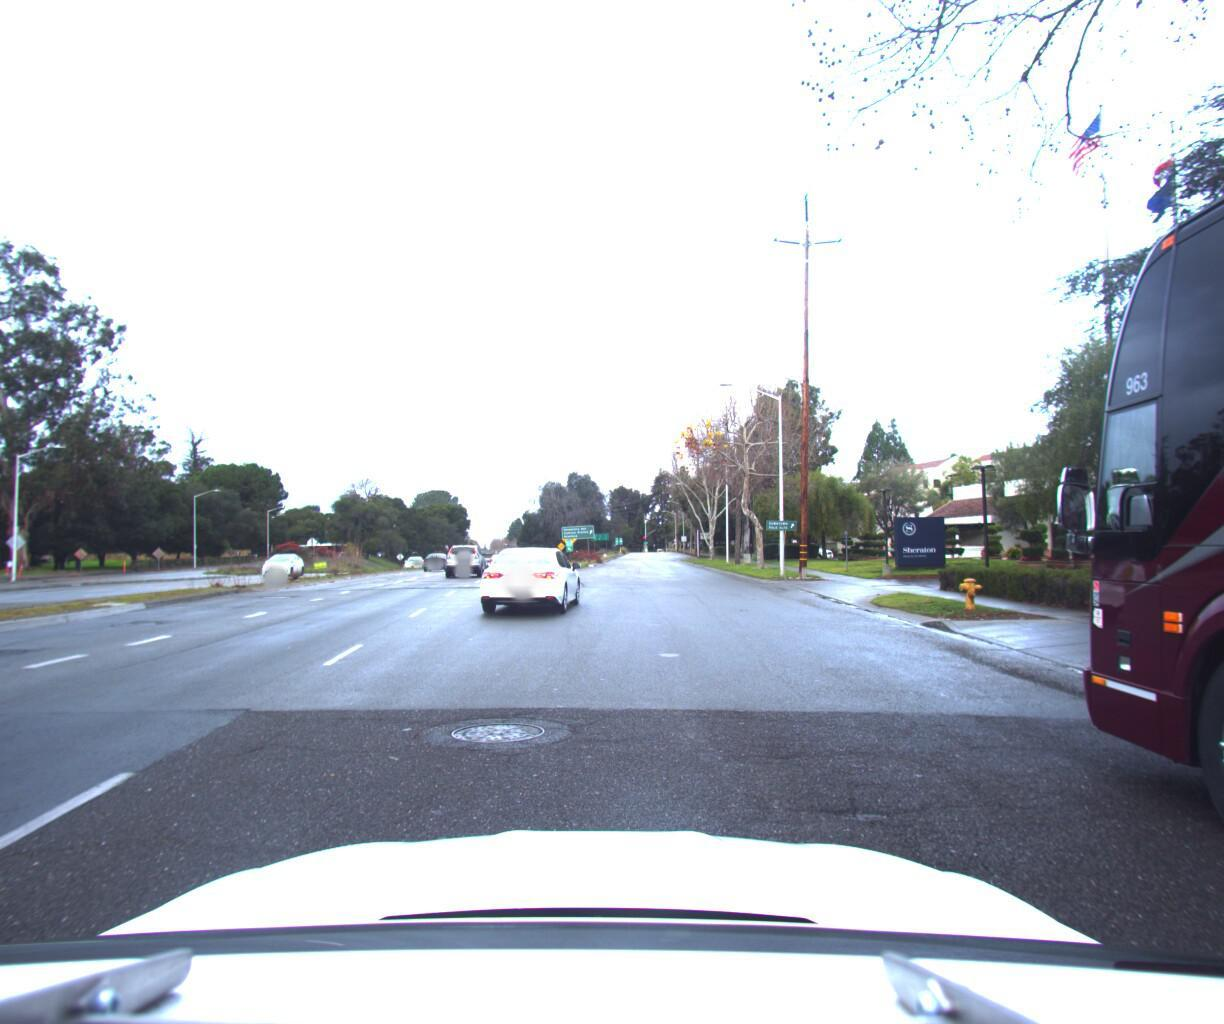car: (475, 542, 586, 614), (445, 542, 487, 580), (262, 551, 310, 578), (418, 546, 448, 571), (489, 549, 509, 566)
